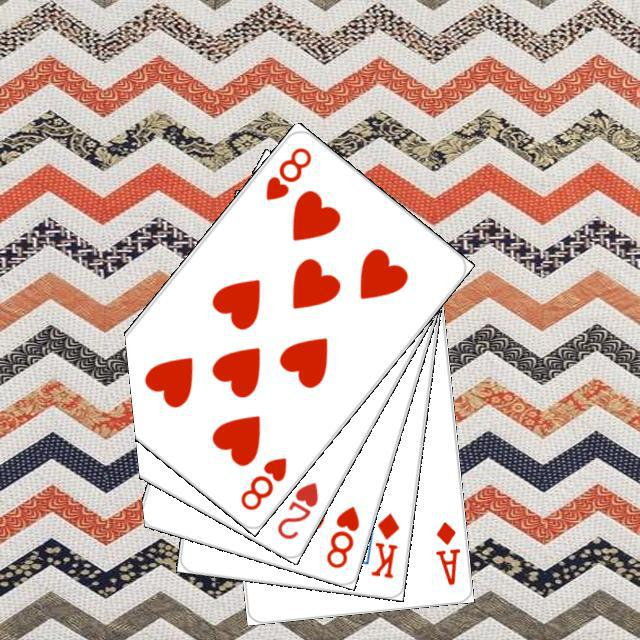2h: (272, 477, 320, 541)
8h: (260, 142, 314, 203), (235, 452, 289, 512), (321, 501, 361, 570)
Ad: (430, 516, 462, 587)
Kd: (365, 508, 401, 580)
